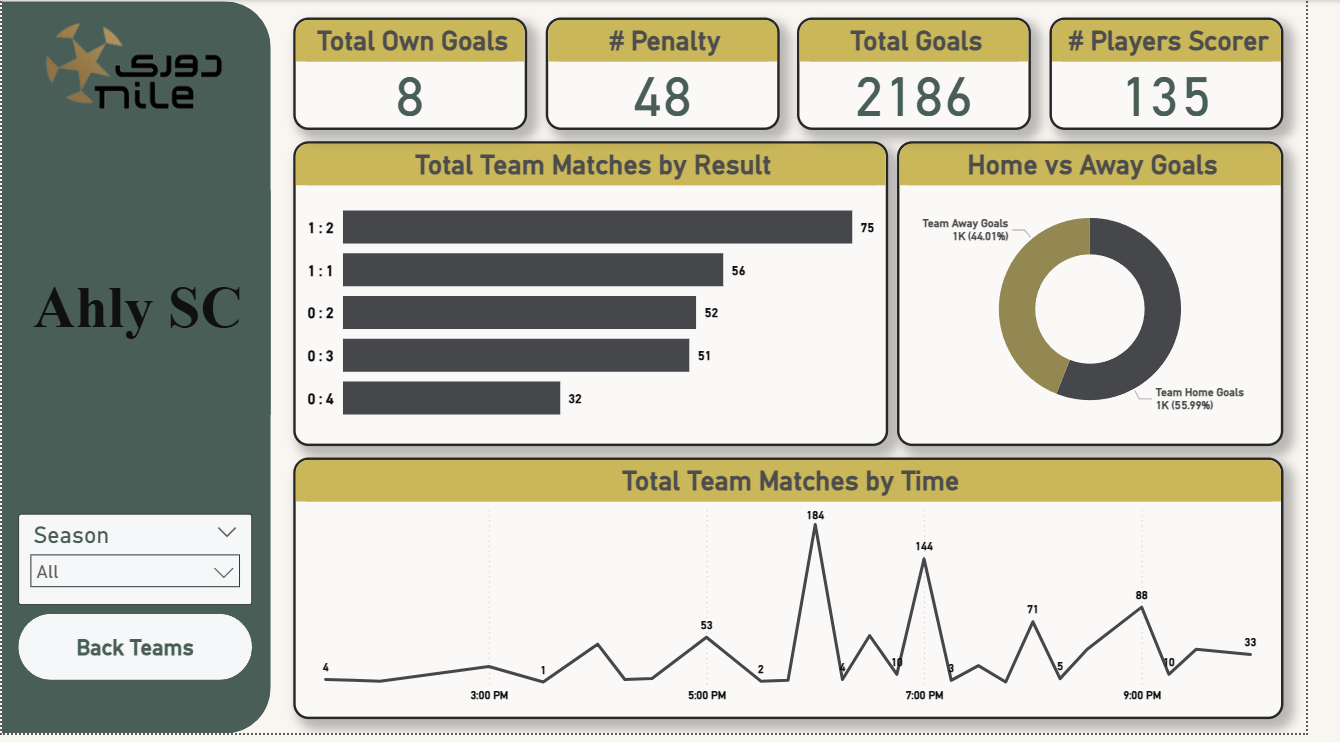

What the dashboard file says about the page in this screenshot:
{"tool":"powerbi","page":{"name":"Team Details","canvas":[1280,720],"ordinal":3},"visuals":[{"type":"shape","box":[0,1.2,263.8,719],"z":0},{"type":"card","fields":{"Values":["Min(Dim_Team.Team)"]},"box":[3.7,186.5,260.1,220.9],"z":1000},{"type":"clusteredBarChart","fields":{"Category":["Dim_Result.Result"],"Y":["_Measures.Total Team Matches"]},"box":[285.9,138.7,584.1,299.4],"z":2000},{"type":"donutChart","title":"Home vs Away Goals","fields":{"Y":["_Measures.Team Home Goals","_Measures.Team Away Goals"]},"box":[878.5,138.7,379.1,299.4],"z":3000},{"type":"card","title":"# Penalty ","fields":{"Values":["_Measures.No. Penalty"]},"box":[533.3,17.2,229.4,110.4],"z":4000},{"type":"card","title":"Total Goals","fields":{"Values":["_Measures.Total team Goals"]},"box":[780.8,17.2,229.4,110.4],"z":5000},{"type":"lineChart","fields":{"Y":["_Measures.Total Team Matches"],"Category":["Dim_Time.Time"]},"box":[285.9,449.1,971.8,256.4],"z":6000},{"type":"card","title":"Total Own Goals","fields":{"Values":["_Measures.Total Own Goals"]},"box":[285.9,17.2,229.4,110.4],"z":7000},{"type":"image","box":[14.7,17.2,230.7,95.7],"z":8000},{"type":"slicer","fields":{"Values":["Dim_Season.Season"]},"box":[16,504.3,229.4,89.6],"z":9000},{"type":"shape","box":[16,602.5,229.4,65],"z":10000},{"type":"card","title":"# Players Scorer","fields":{"Values":["_Measures.No. Scorer_Players"]},"box":[1028.2,17.2,229.4,110.4],"z":11000},{"type":"actionButton","box":[38,602.5,179.1,63.8],"z":12000}]}

Visuals, with their boxes in screenshot pixels (x1, y1, x2, y2), scaled from the page's 1280x720 canvas onto the 1340x742 screenshot:
shape: 0 1 276 741
card - Min(Dim_Team.Team): 4 192 276 420
clusteredBarChart - Dim_Result.Result x _Measures.Total Team Matches: 299 143 911 451
"Home vs Away Goals" donutChart: 920 143 1317 451
"# Penalty " card: 558 18 798 131
"Total Goals" card: 817 18 1058 131
lineChart - _Measures.Total Team Matches x Dim_Time.Time: 299 463 1317 727
"Total Own Goals" card: 299 18 539 131
image: 15 18 257 116
slicer - Dim_Season.Season: 17 520 257 612
shape: 17 621 257 688
"# Players Scorer" card: 1076 18 1317 131
actionButton: 40 621 227 687
